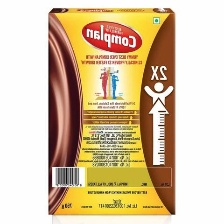carton: (41, 4, 180, 221)
